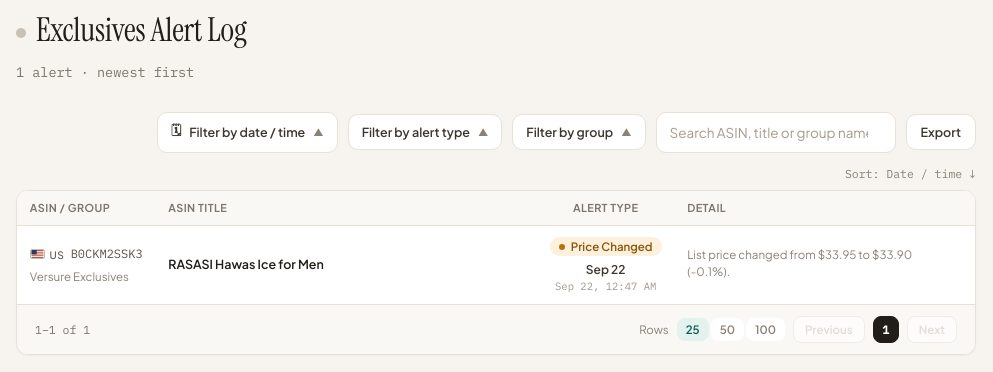
Scenario: ExclusivesLogPage › offers every group in a filter of its own
What coordinates should you click on to do the following:
click the button "Filter by group ▲"
I would click on:
 (579, 132)
Its box is [512, 114, 646, 150].
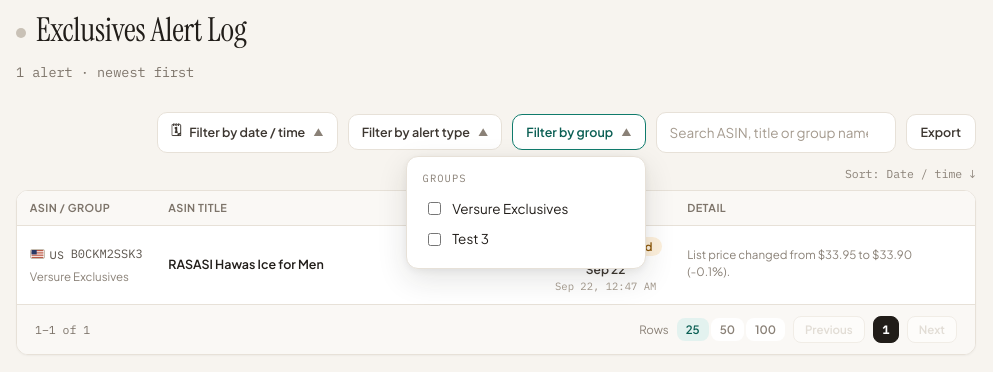
expect the checkbox labelled "Versure Exclusives" is shown: met, box [428, 202, 441, 215]
expect the checkbox labelled "Test 3" is shown: met, box [428, 233, 441, 246]
